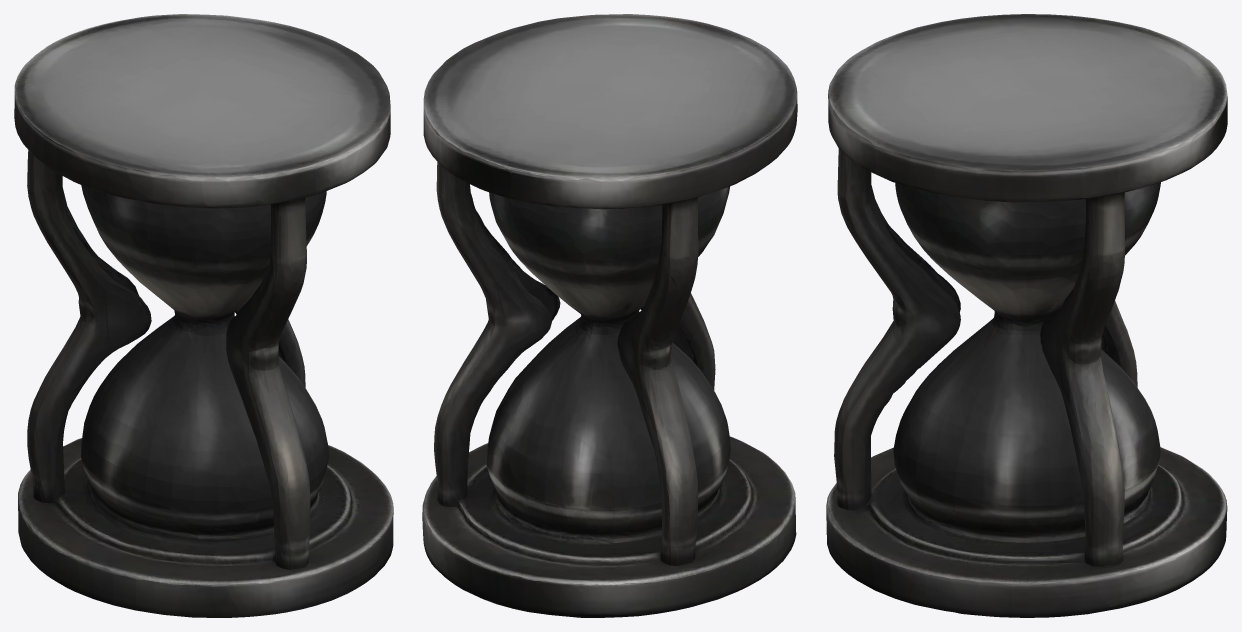
File: hourglass.glb
3 renders of one model, left to right at view 1: azimuth 30°, elevation 25°; view 2: azimuth 150°, elevation 25°; view 3: azimuth 270°, elevation 25°, orthographic.
Visible parts, largest first — view 1: world; view 2: world; view 3: world.
Boxes of the visible parts, box(x1,y1,x2,y2) form: world: box(14, 14, 393, 617); world: box(422, 14, 797, 617); world: box(826, 14, 1227, 617).
Size of the model in its own units: 0.7442 by 0.9882 by 0.8004.
1 material, 1 textured.
